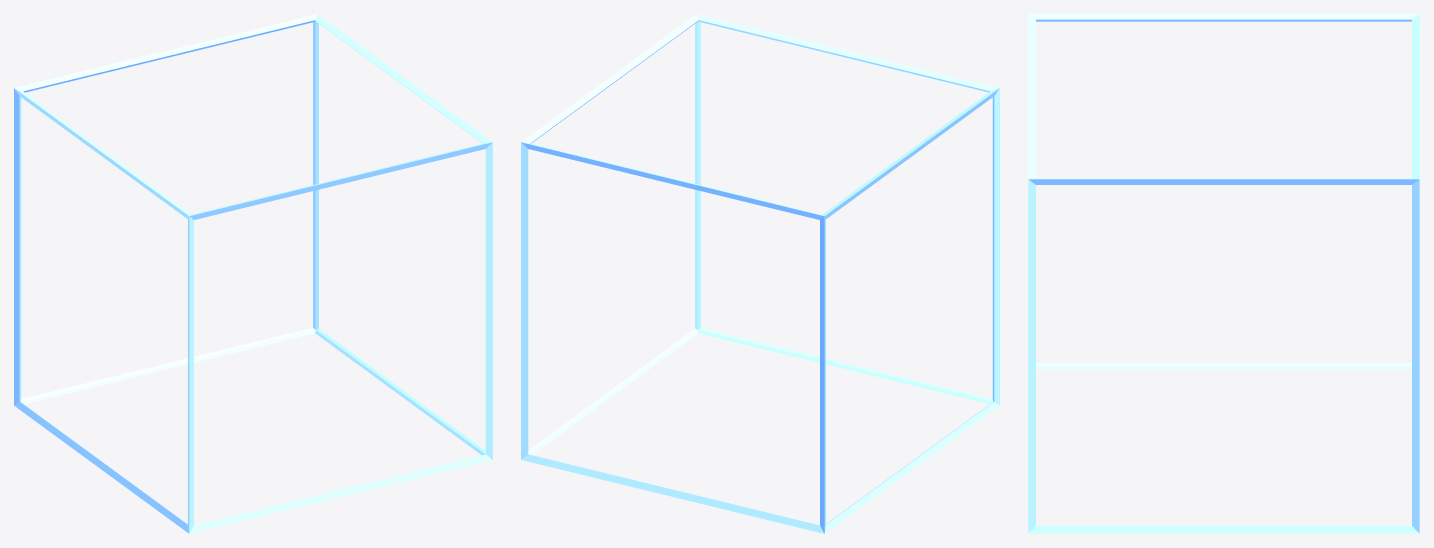
File: square_test.glb
3 renders of one model, left to right at view 1: azimuth 30°, elevation 25°; view 2: azimuth 150°, elevation 25°; view 3: azimuth 270°, elevation 25°, orthographic. The views are drawn at different scales.
Parts seen in each view (by area): view 1: Cube; view 2: Cube; view 3: Cube.
Part boxes in pixels (x1,y1,x2,y2): Cube: (14,14,492,533); Cube: (521,14,999,533); Cube: (1028,14,1419,533).
Size of the model in its own units: 2.03 by 2.03 by 2.03.
